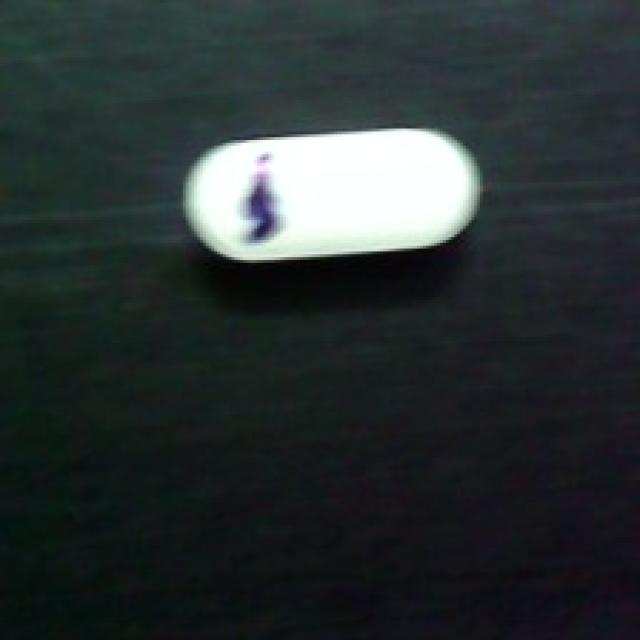defected: (180, 123, 486, 266)
